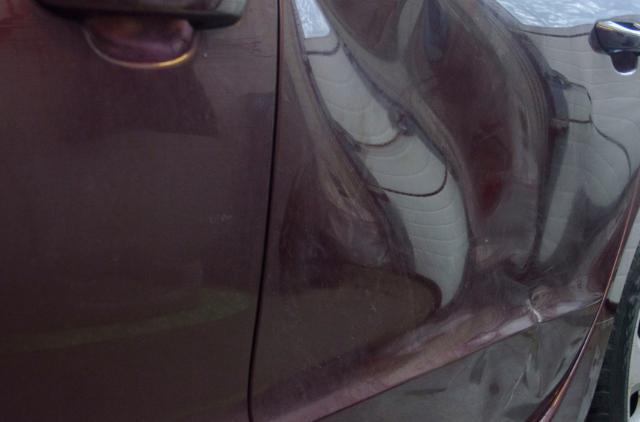Door: (274, 0, 570, 417)
